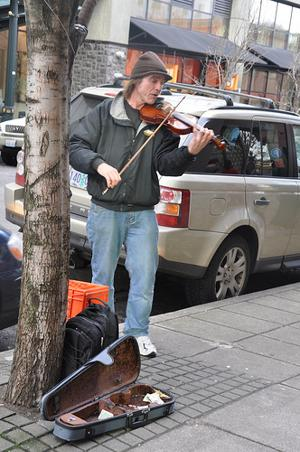person: (69, 52, 214, 357)
